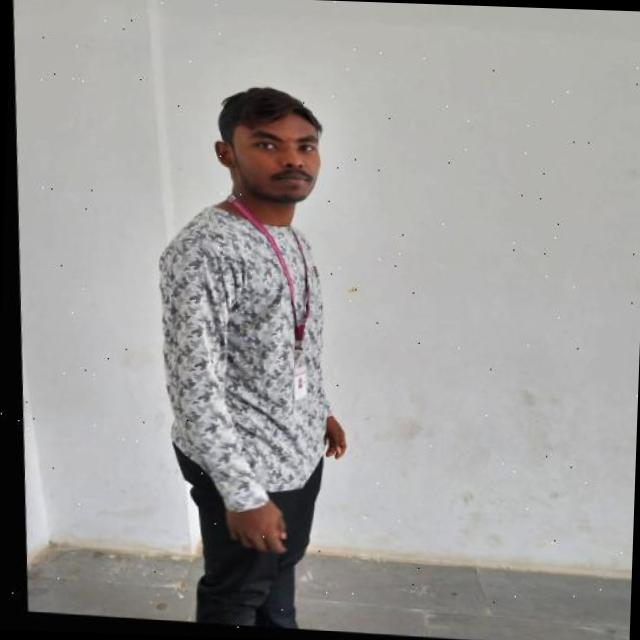id_card: (231, 192, 324, 398)
